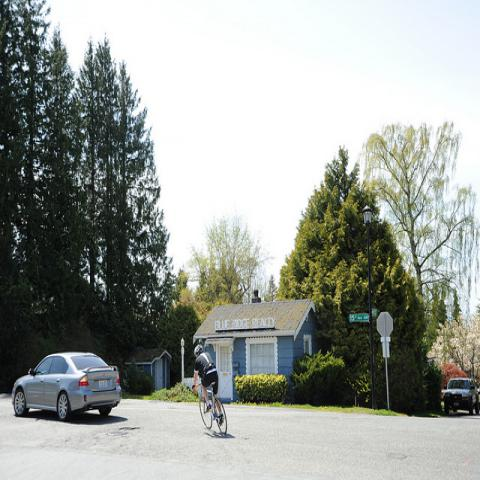car: (11, 351, 121, 422), (442, 377, 480, 416), (477, 387, 480, 394)
